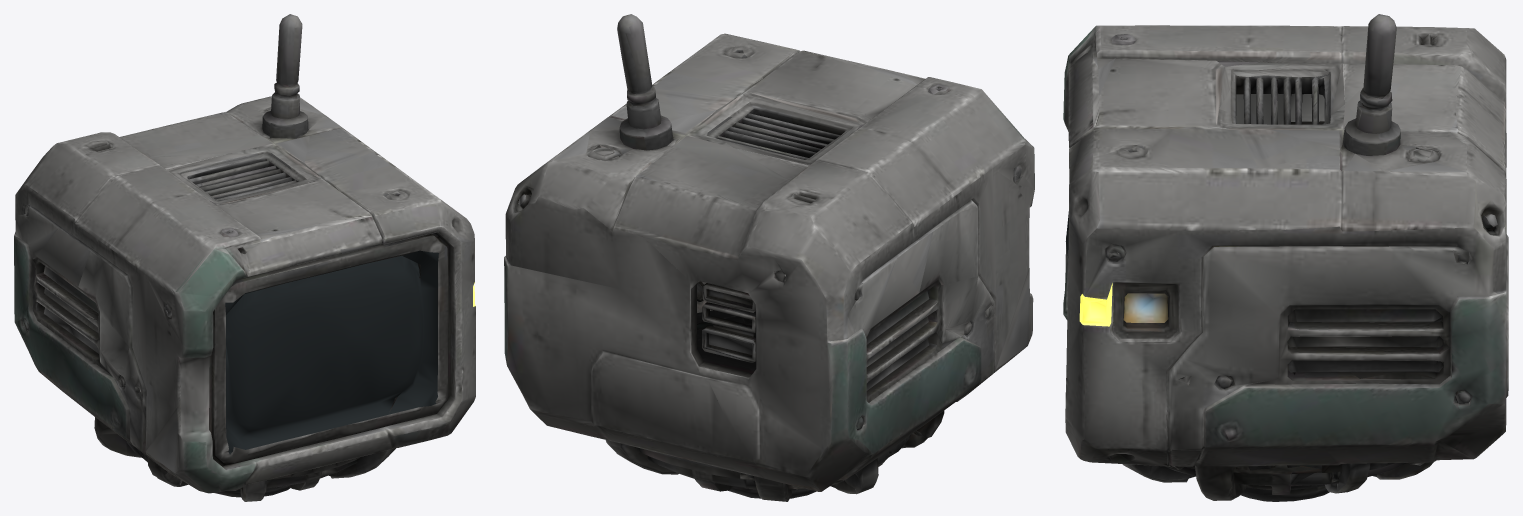
Rendered from bit-companion.glb.
3 renders of one model, left to right at view 1: azimuth 30°, elevation 25°; view 2: azimuth 150°, elevation 25°; view 3: azimuth 270°, elevation 25°, orthographic. The views are drawn at different scales.
Visible parts, largest first — view 1: bit_body, bit_screen; view 2: bit_body; view 3: bit_body, bit_lamp.
Part boxes in pixels (x1,y1,x2,y2): bit_body: [14, 14, 475, 501]; bit_screen: [225, 250, 438, 454]; bit_body: [504, 14, 1034, 501]; bit_body: [1063, 14, 1508, 501]; bit_lamp: [1079, 283, 1112, 326].
Bounding box in the file's own units: 0.7208 × 0.92 × 0.7287.
3 materials, 1 textured.
